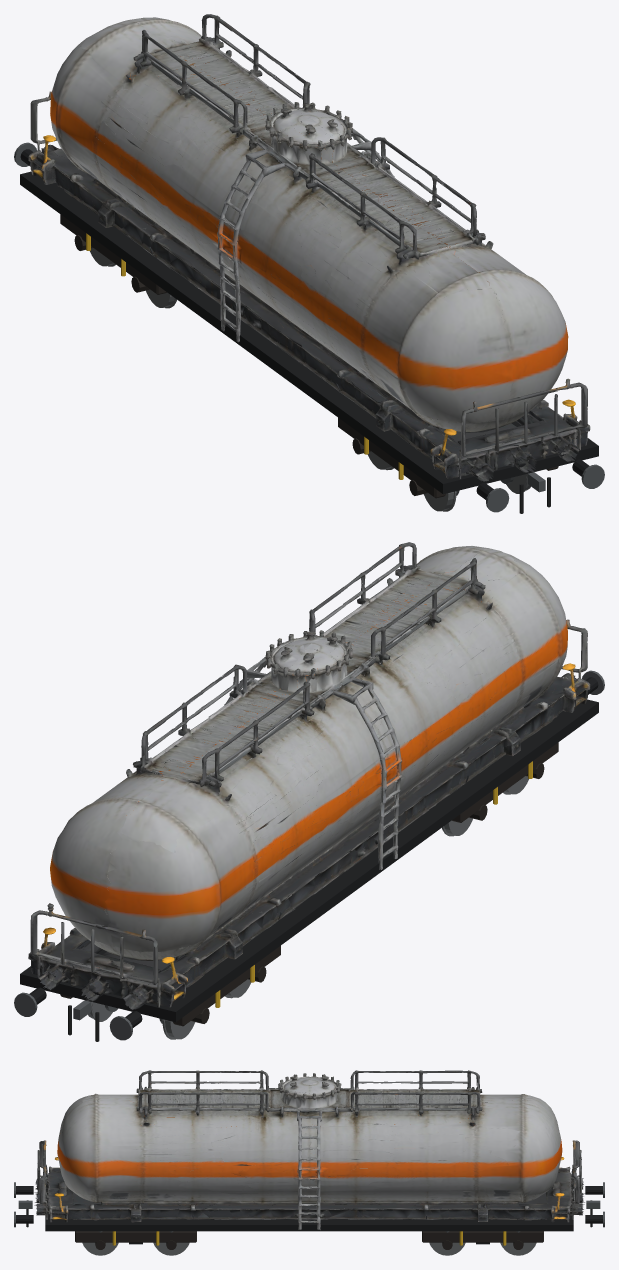
File: zas.glb
3 renders of one model, top to bottom at view 1: azimuth 30°, elevation 25°; view 2: azimuth 150°, elevation 25°; view 3: azimuth 270°, elevation 25°, orthographic. The views are drawn at different scales.
Parts seen in each view (by area): view 1: zas_kori, zas_frame, Bogie_F_side-1, Bogie_R_side-1; view 2: zas_kori, zas_frame, Bogie_R_side-1, Bogie_F_side-1; view 3: zas_kori, zas_frame, Bogie_F_side1, Bogie_R_side1, Wheel_F1_wR, Wheel_R2_wR, Wheel_F2_wR, Wheel_R1_wR.
Boxes of the visible parts, x1,y1,x2,y2 form: zas_kori: (28, 14, 590, 481); zas_frame: (20, 170, 598, 494); Bogie_F_side-1: (338, 417, 445, 498); Bogie_R_side-1: (60, 214, 166, 294); zas_kori: (28, 542, 590, 1009); zas_frame: (20, 697, 598, 1022); Bogie_R_side-1: (173, 945, 280, 1026); Bogie_F_side-1: (452, 742, 558, 822); zas_kori: (34, 1070, 584, 1229); zas_frame: (45, 1188, 573, 1231); Bogie_F_side1: (75, 1231, 196, 1242); Bogie_R_side1: (422, 1231, 543, 1242); Wheel_F1_wR: (83, 1242, 117, 1255); Wheel_R2_wR: (501, 1242, 535, 1255); Wheel_F2_wR: (154, 1242, 188, 1255); Wheel_R1_wR: (430, 1242, 464, 1255).
Bounding box in the file's own units: 3.1 × 4.61 × 14.99.
7 materials, 1 textured.
